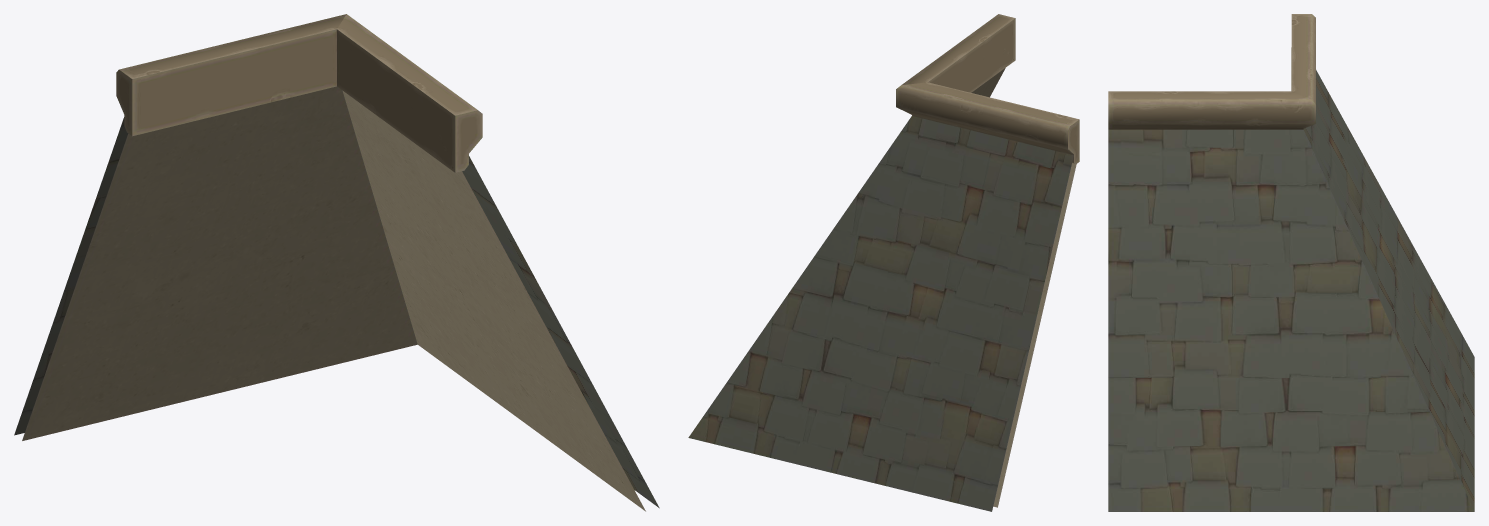
Rendered from ARC0510010.fbx.
The picture shows the model from 3 angles, left to right: view 1: azimuth 30°, elevation 25°; view 2: azimuth 150°, elevation 25°; view 3: azimuth 270°, elevation 25°; orthographic projection. The views are drawn at different scales.
Visible parts, largest first — view 1: smARC0510010; view 2: smARC0510010; view 3: smARC0510010.
Boxes of the visible parts, bbox=[...] form: smARC0510010: bbox=[14, 14, 659, 511]; smARC0510010: bbox=[688, 14, 1079, 511]; smARC0510010: bbox=[1108, 14, 1474, 511].
Size of the model in its own units: 300 by 310 by 300.
1 material, 1 textured.
